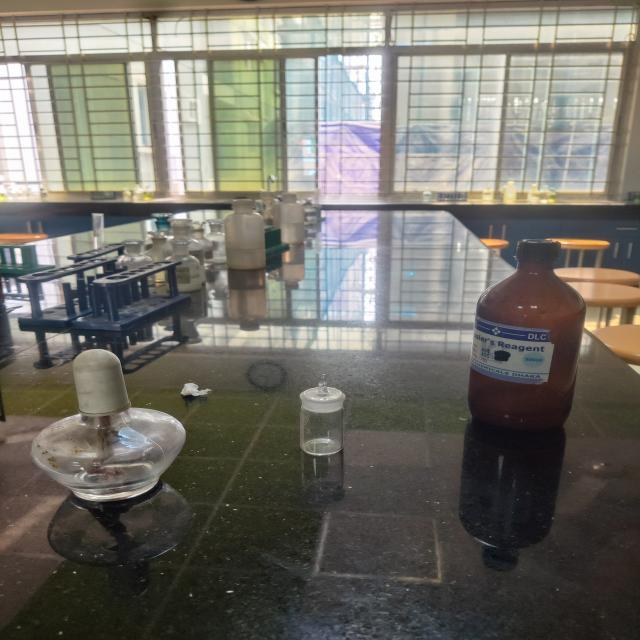Nessler_Reagent_Bottle: (444, 216, 610, 458)
Spirit_Lamp: (15, 335, 208, 533)
Weighing_Bottle: (272, 360, 372, 476)
